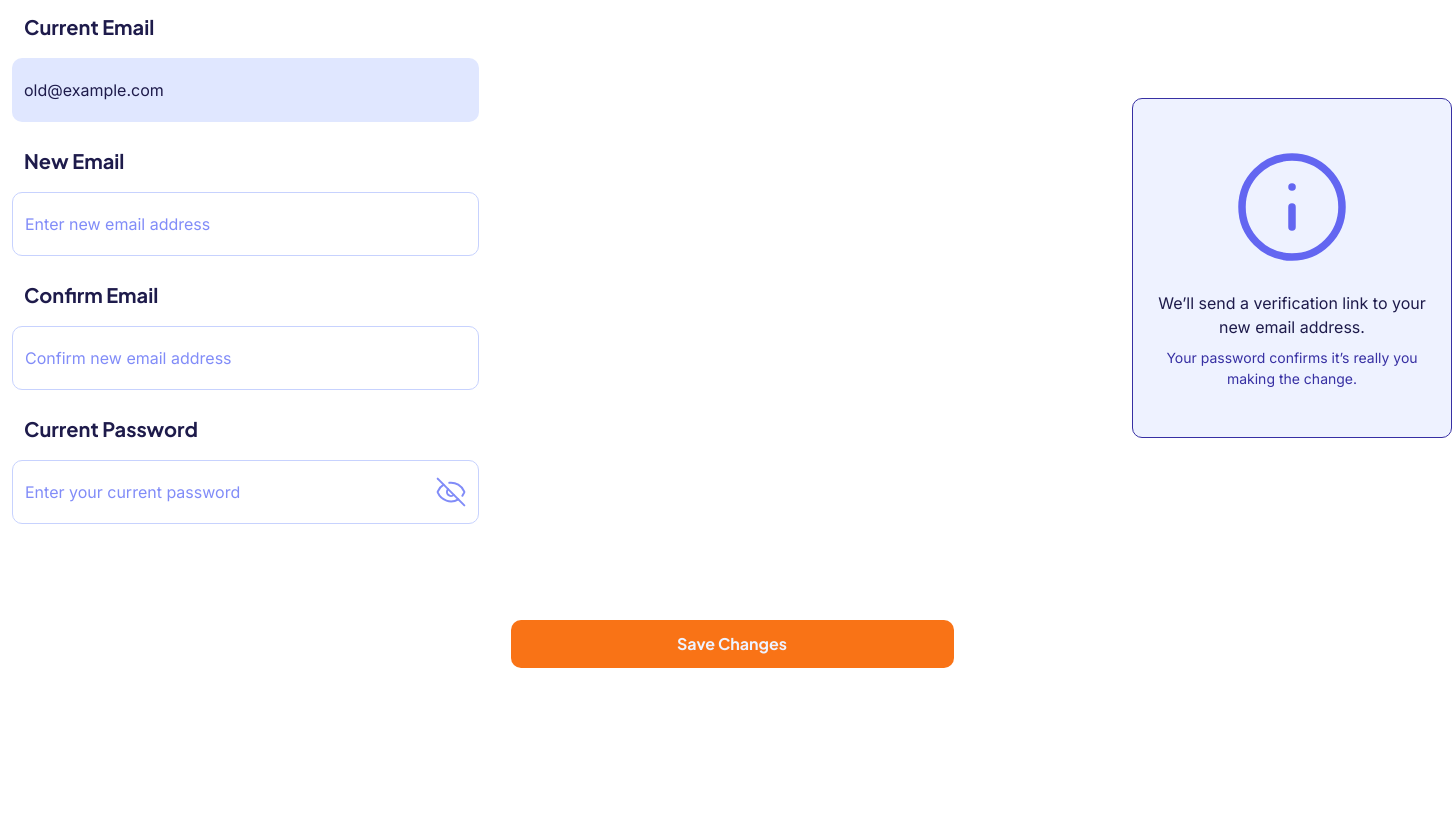
Test: UpdateEmailForm — after the request is accepted › confirms the link was sent and names where it went
Type "new@example.com" into the field labelled "New Email" at x=246, y=224, box [12, 192, 479, 256]
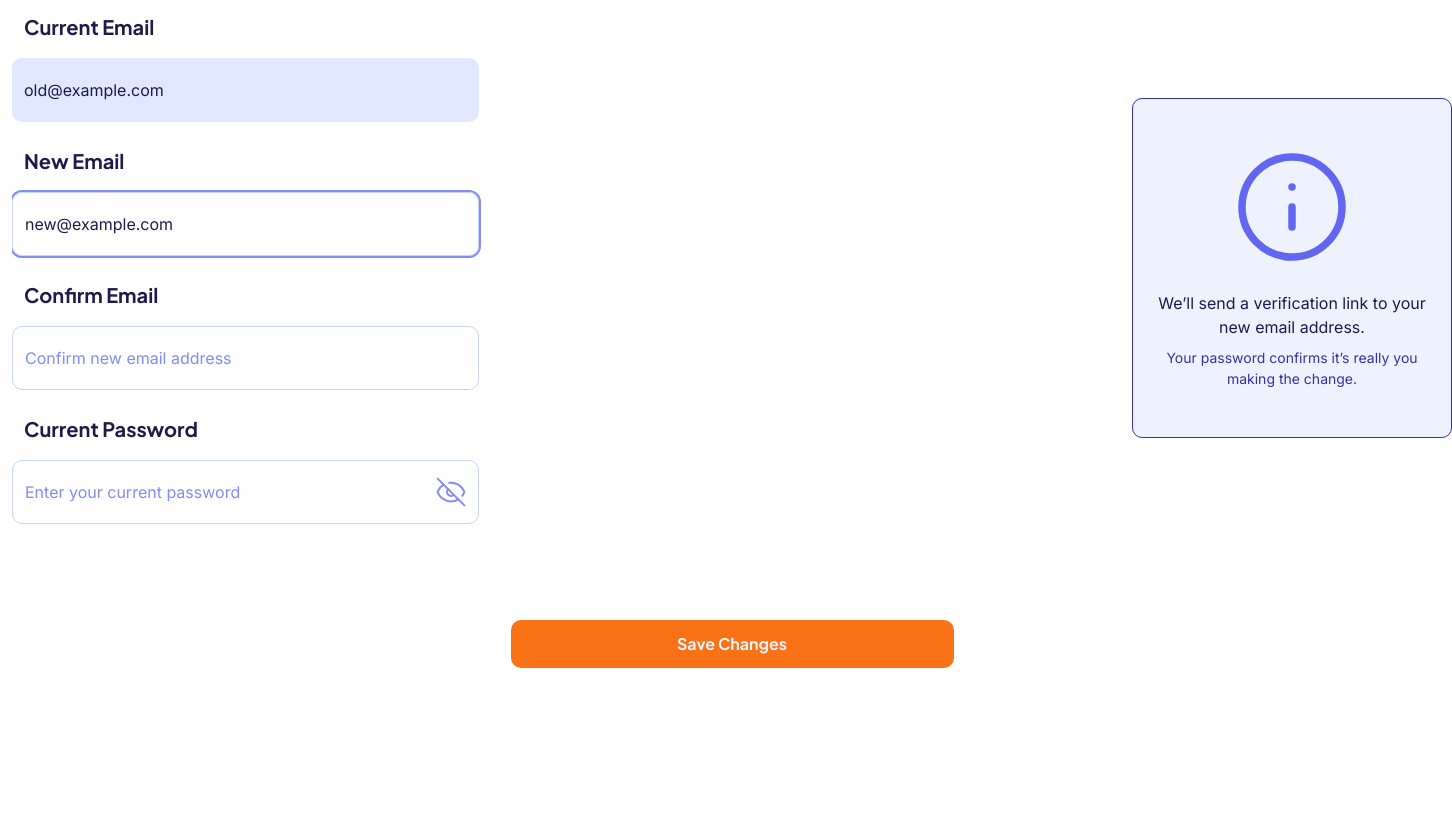
Type "new@example.com" into the field labelled "Confirm Email" at x=246, y=358, box [12, 326, 479, 390]
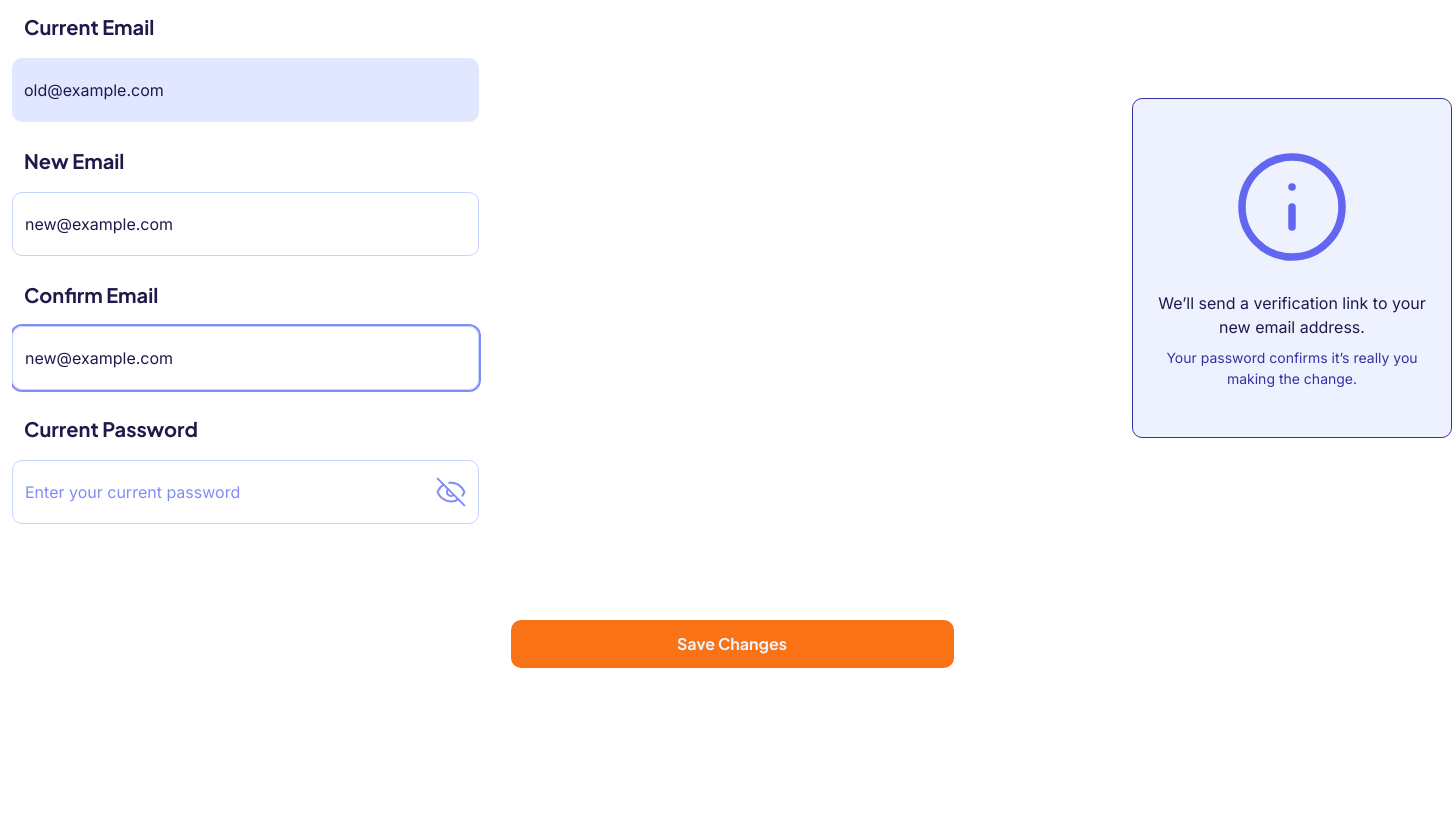
Type "OldPassw0rd" into the password field labelled "Current Password" at x=246, y=492, box [12, 460, 479, 524]
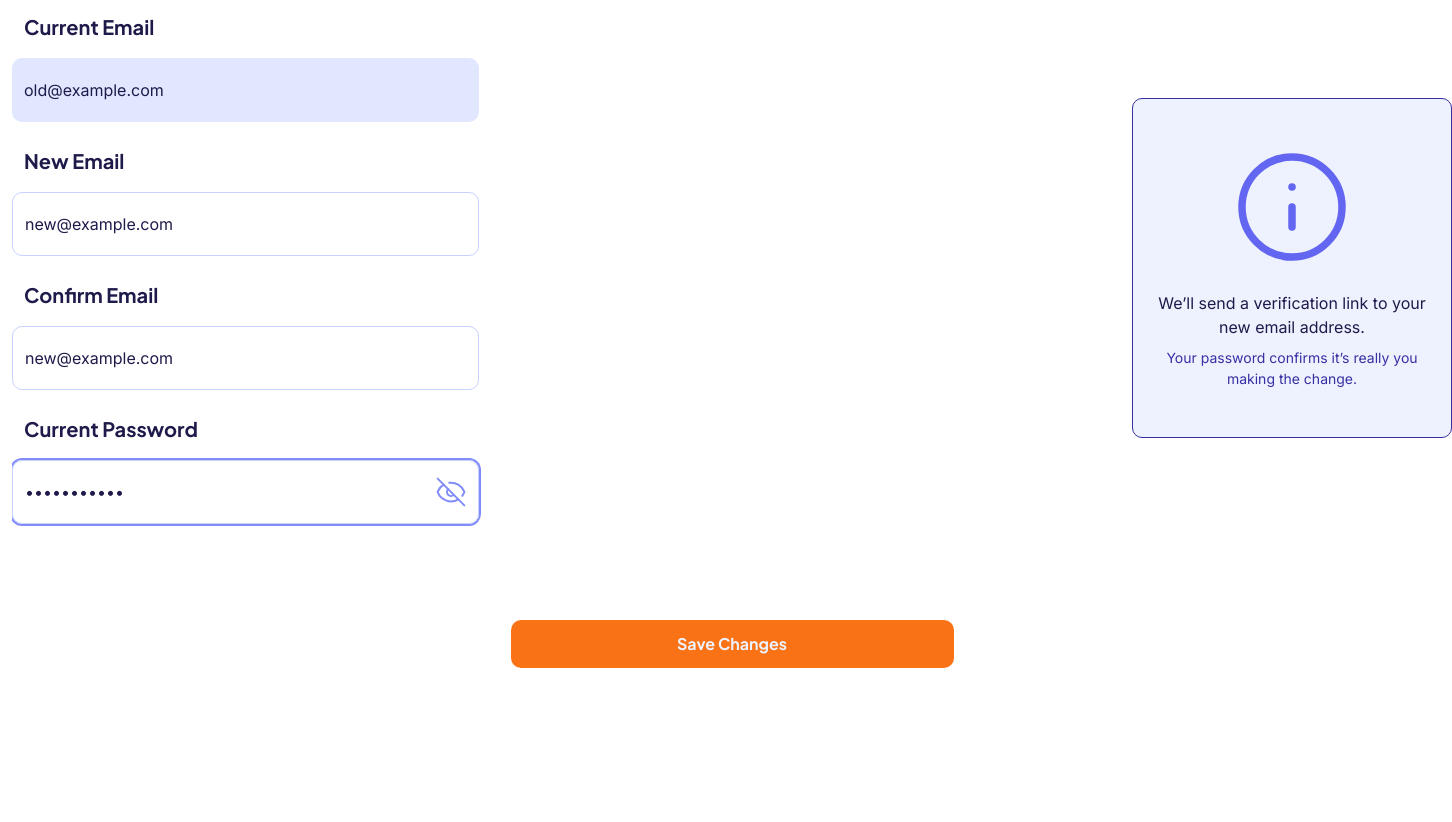
Click the button "Save Changes" at x=732, y=644, box [510, 620, 954, 668]
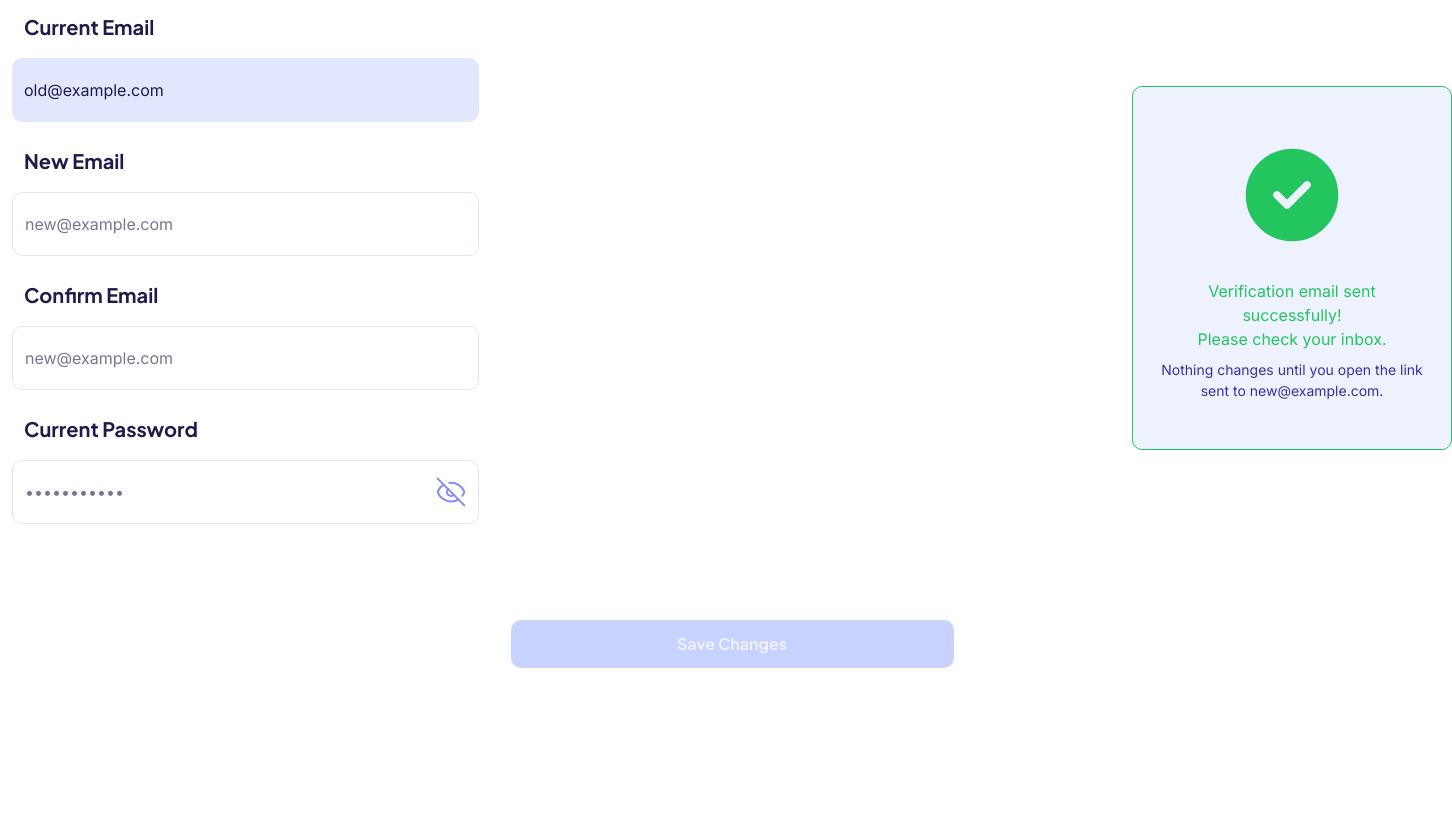
Expected: the message shows "Verification email sent successfully", [1197, 281, 1387, 349]
Expected: the text "Nothing changes until you open the link sent to" shows "new@example.com", [1161, 361, 1423, 399]
